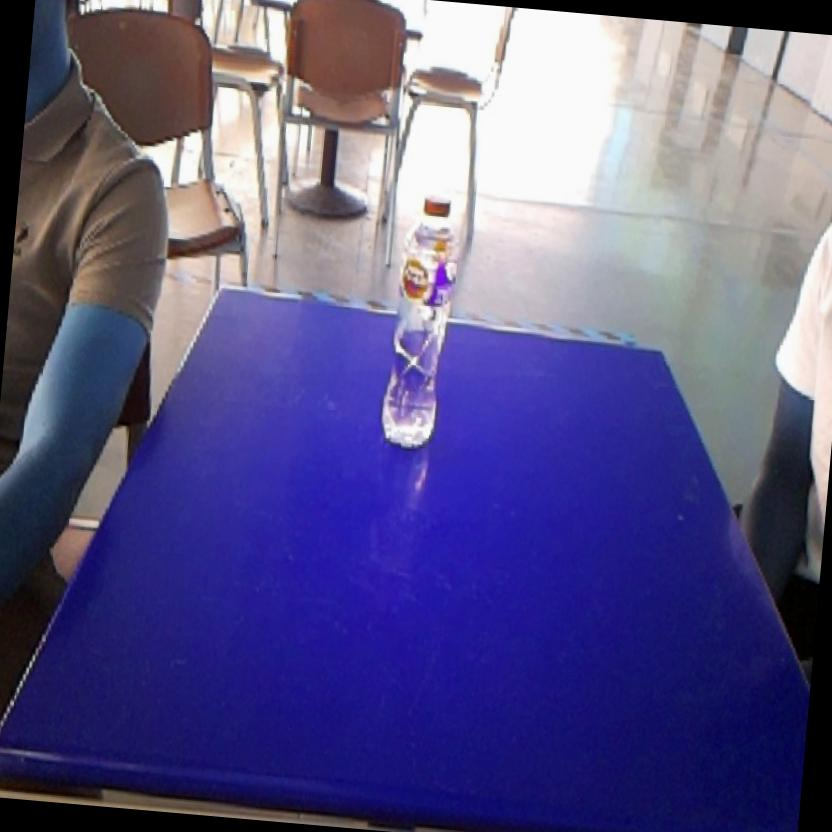good: (372, 182, 472, 463)
